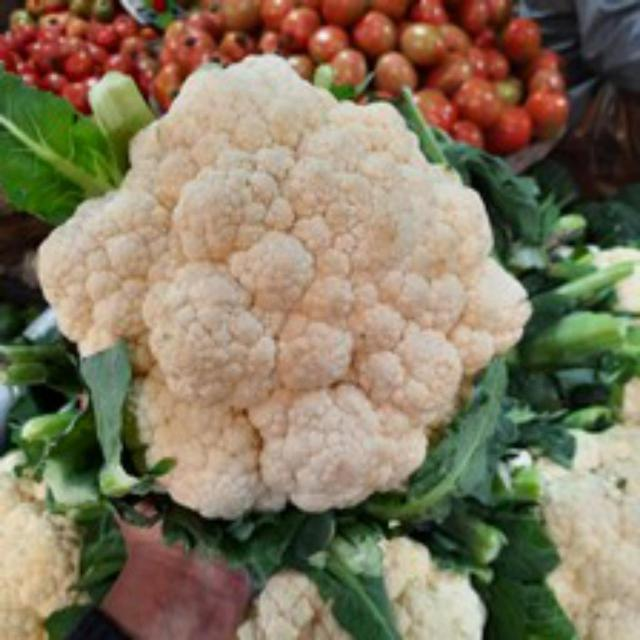cauliflower: (25, 48, 528, 503)
